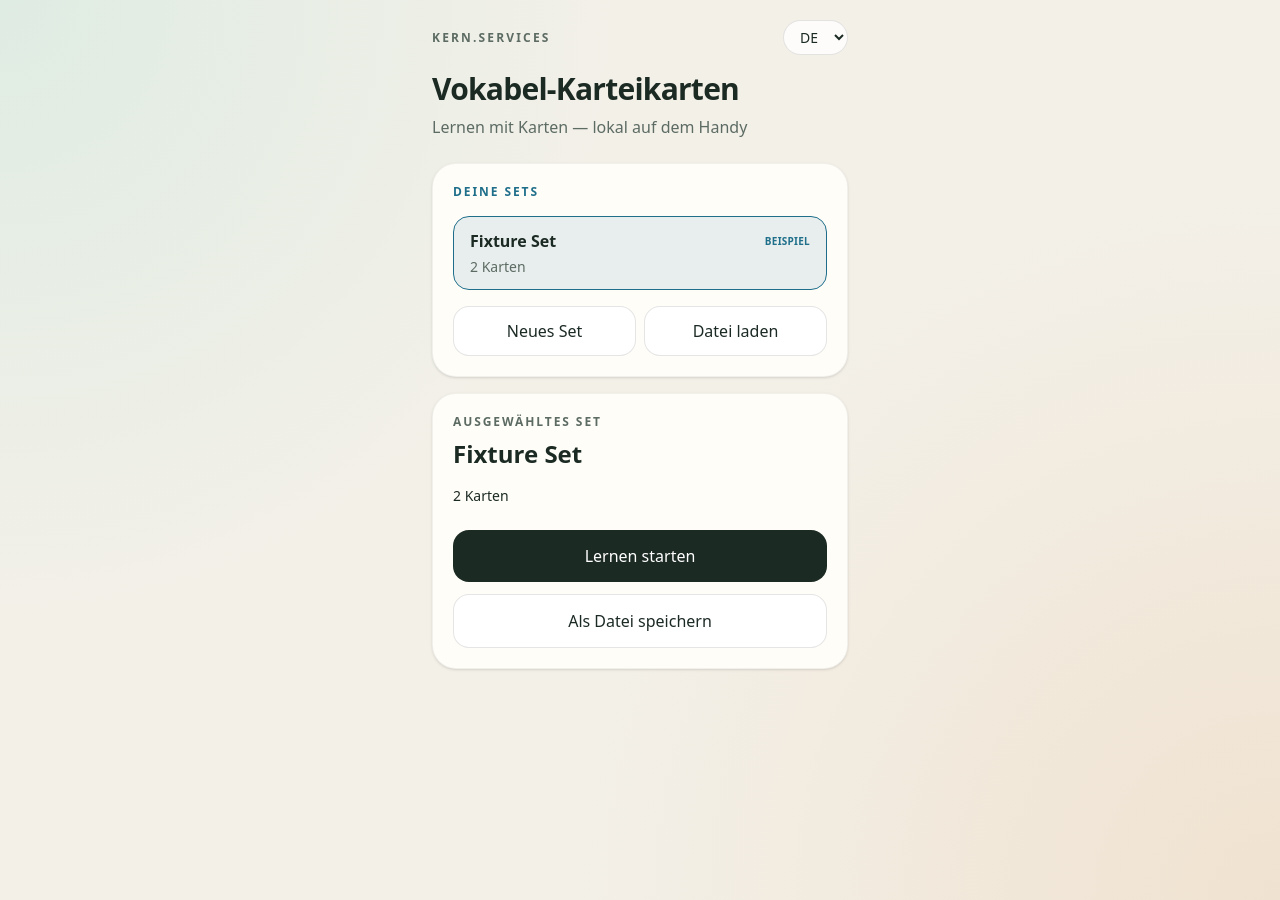
Test: study flow › starts, flips, marks known, and opens known browse
What coordinates should you click on to do the following:
click the button "Lernen starten"
I would click on:
 (640, 556)
Its box is [453,530,827,582].
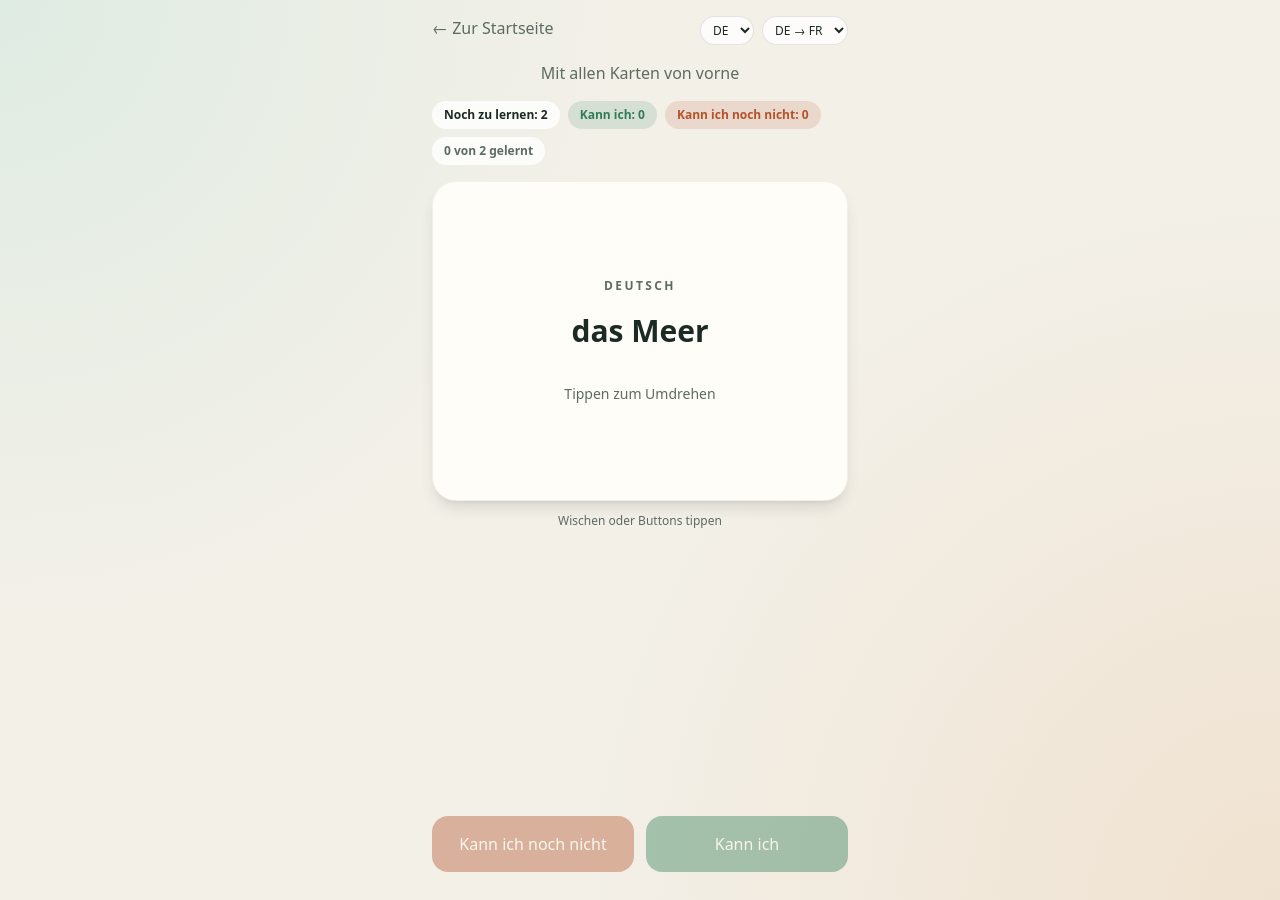
What coordinates should you click on to do the following:
click the button "Deutsch das Meer Tippen zum Umdrehen Français la mer [lamɛʀ]"
I would click on:
 (640, 341)
Its box is [432,181,848,501].
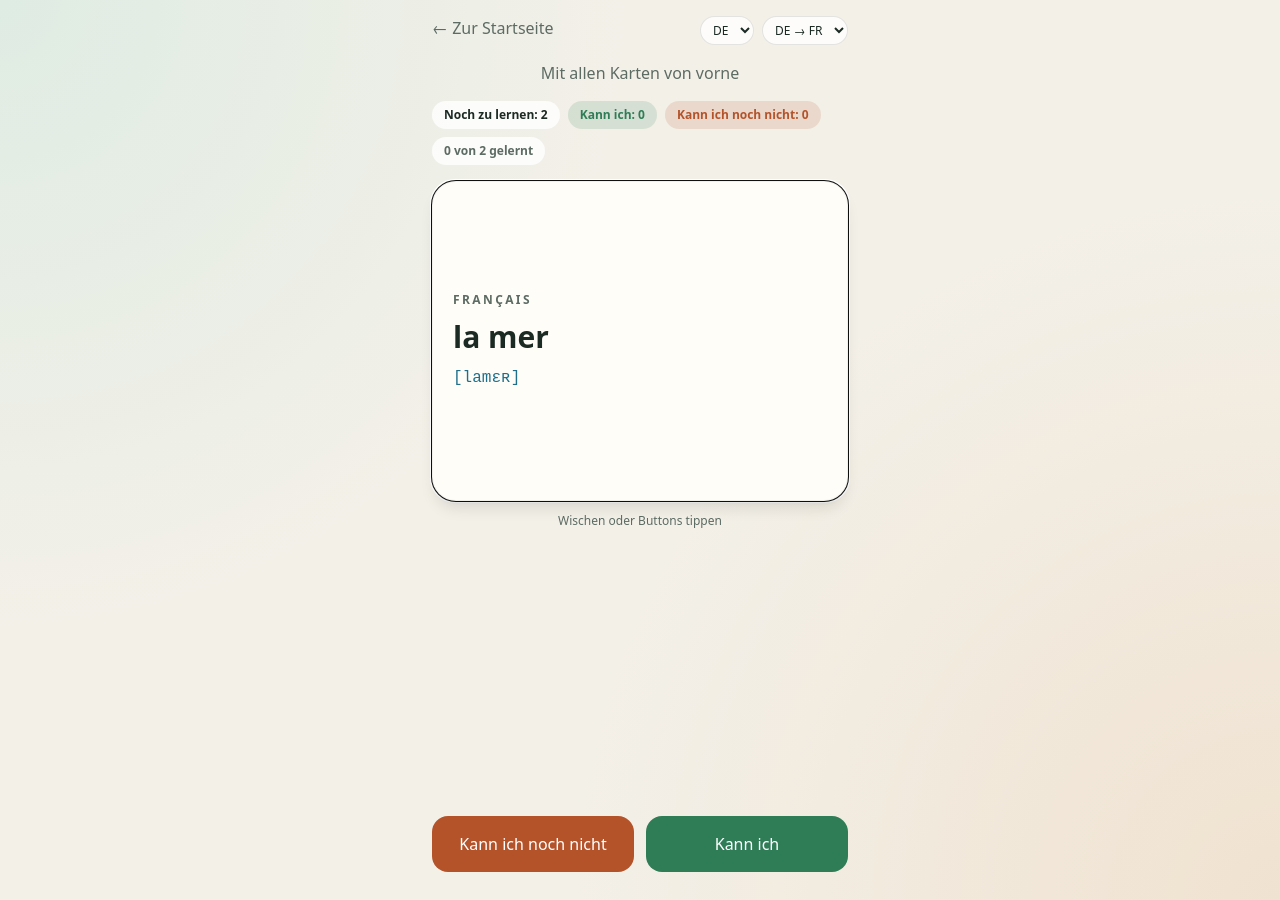
What coordinates should you click on to do the following:
click the button "Kann ich"
I would click on:
 (747, 844)
Its box is [646,816,848,872].
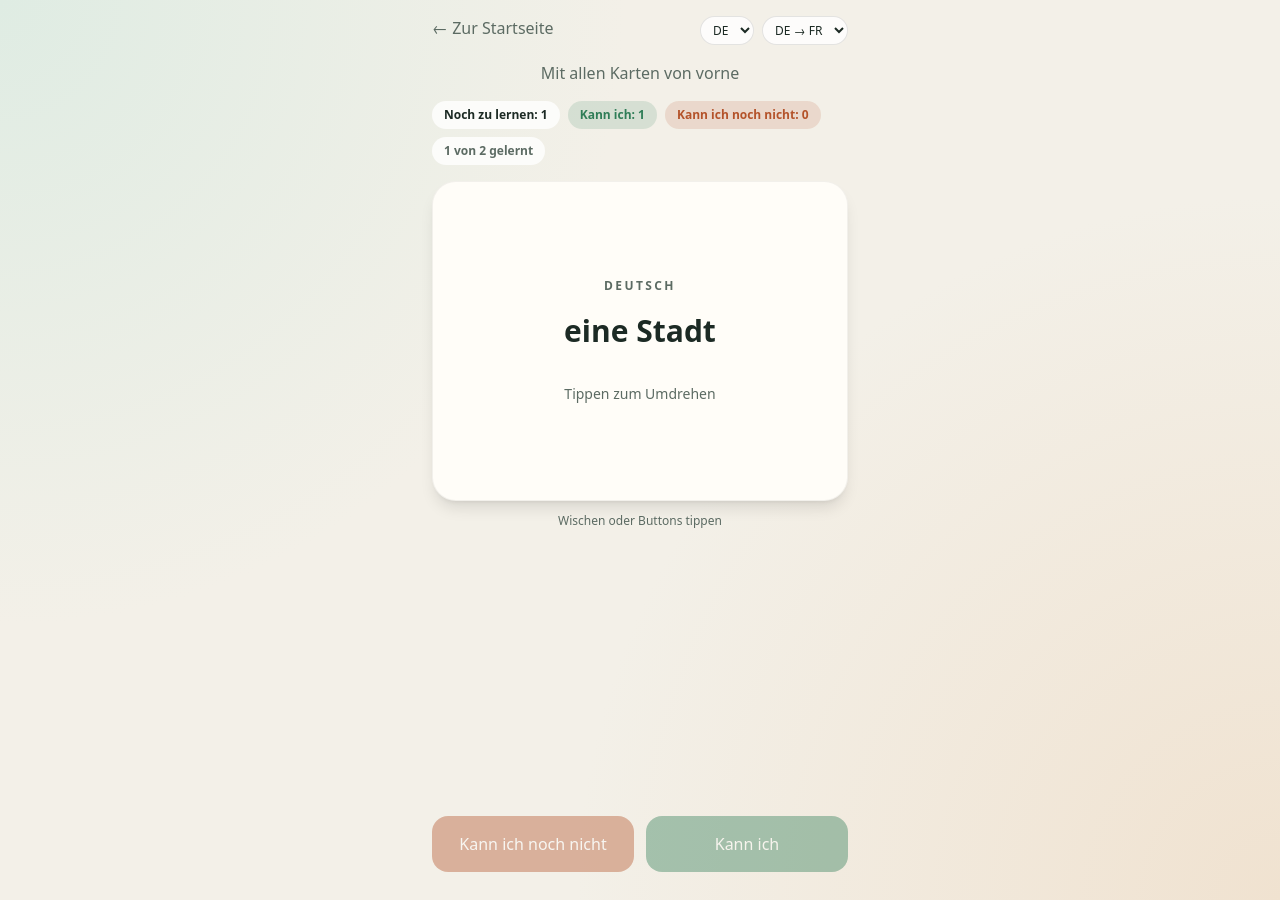
Expected: the button "Kann ich: 1" is shown
What coordinates should you click on to do the following:
click the button "Kann ich: 1"
I would click on:
 (612, 115)
Its box is [568,101,657,129].
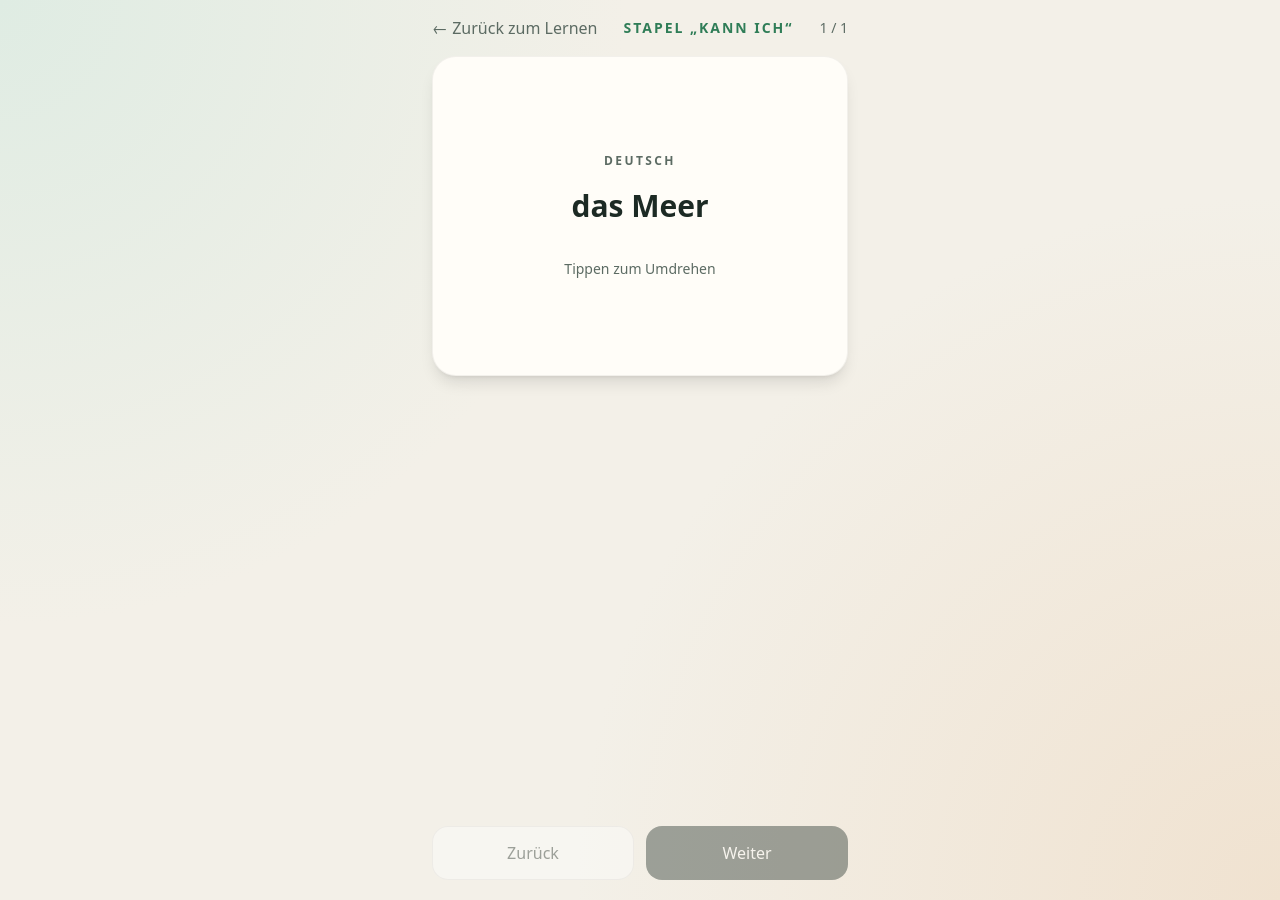
Expected: the heading "Stapel „Kann ich“" is shown, [624,18,793,38]
